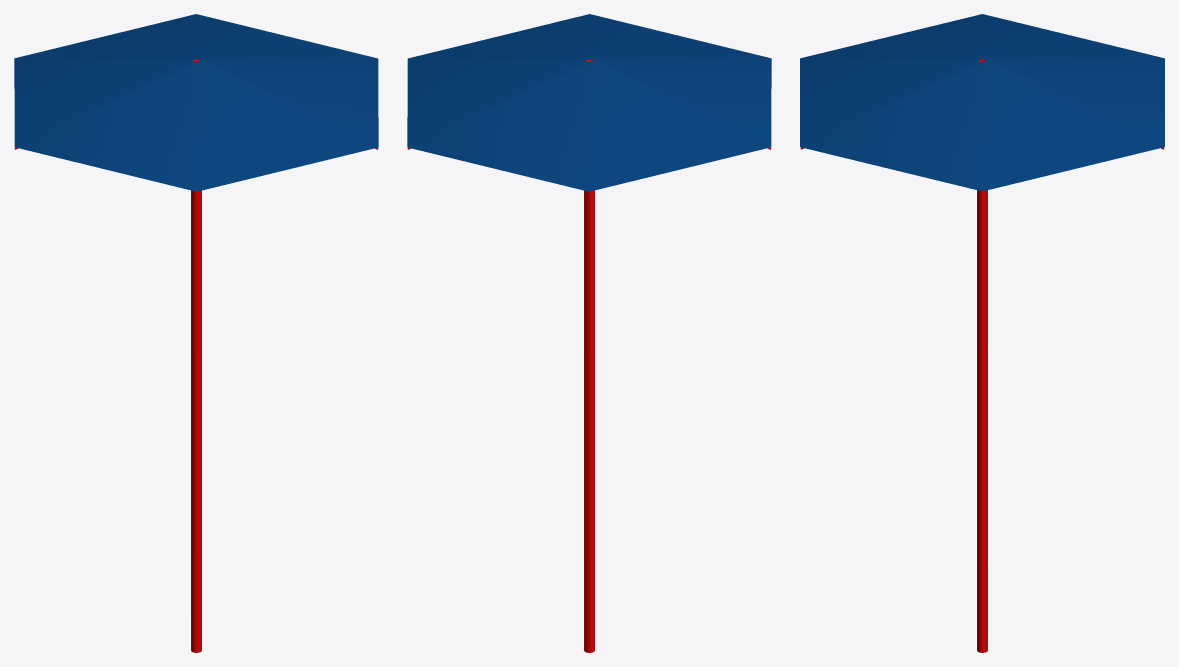
File: beach_umbrella.fbx
The picture shows the model from 3 angles, left to right: view 1: azimuth 30°, elevation 25°; view 2: azimuth 150°, elevation 25°; view 3: azimuth 270°, elevation 25°; orthographic projection.
Visible parts, largest first — view 1: transform9; view 2: transform9; view 3: transform9.
Boxes of the visible parts, <box> form: transform9: <box>14,14,378,652</box>; transform9: <box>407,14,771,652</box>; transform9: <box>800,14,1164,652</box>.
Size of the model in its own units: 330 by 512 by 286.
